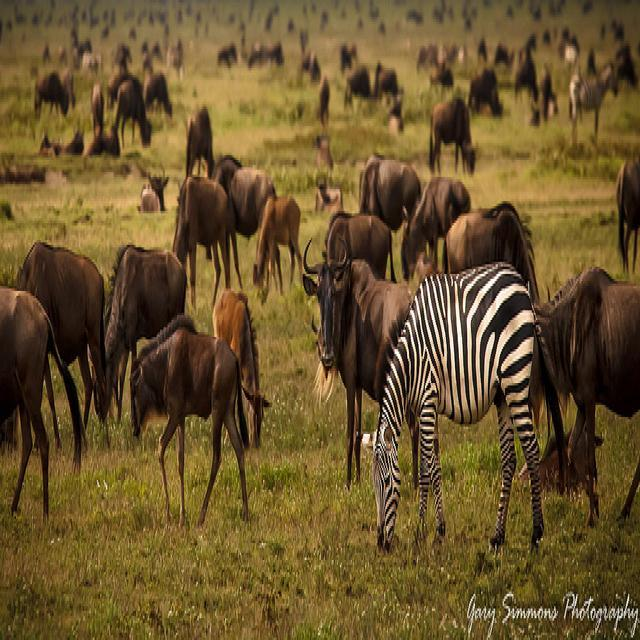cow: (300, 228, 412, 487)
